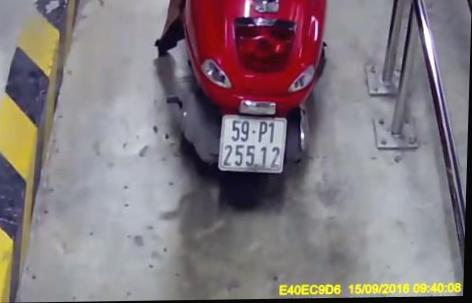License_Plate: (214, 108, 292, 179)
